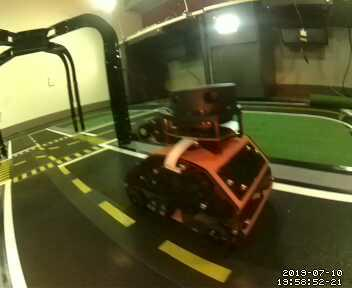pheeno: (121, 84, 274, 249)
